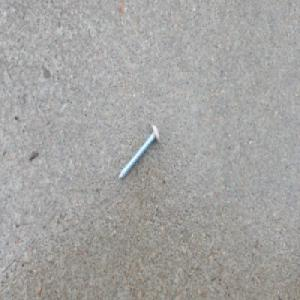Nail: (117, 123, 160, 183)
